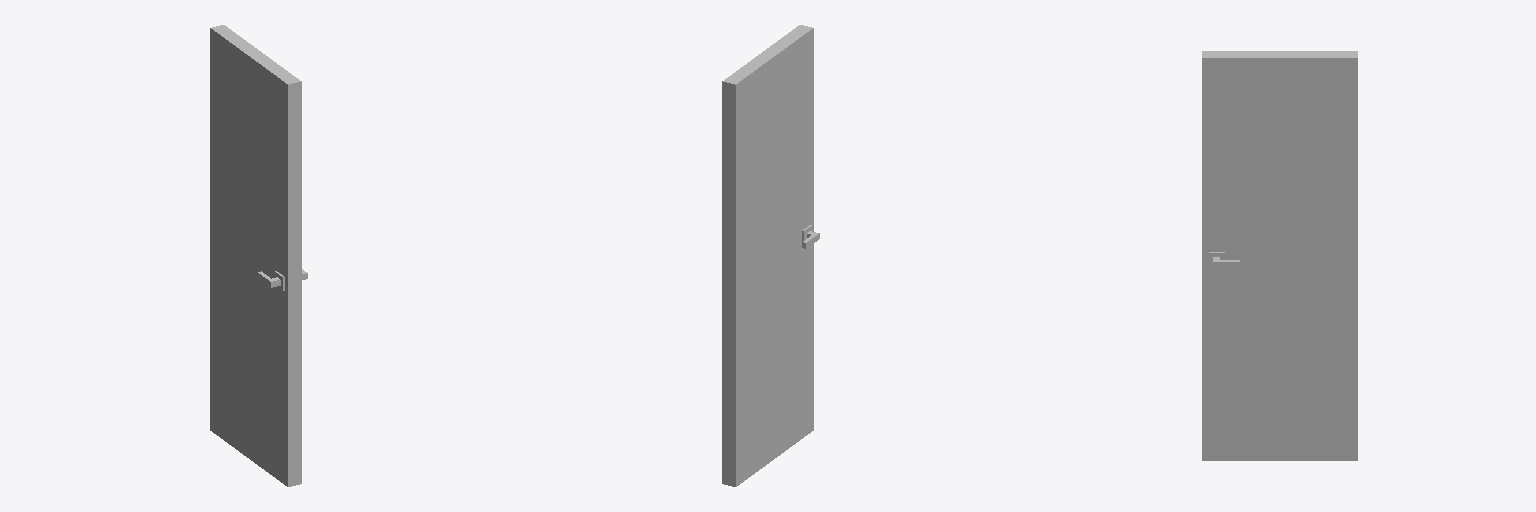
File: door701_beige.obj
The picture shows the model from 3 angles: view 1: azimuth 30°, elevation 25°; view 2: azimuth 150°, elevation 25°; view 3: azimuth 270°, elevation 25°; orthographic projection.
Visible parts, largest first — view 1: Cube; view 2: Cube; view 3: Cube.
Boxes of the visible parts, x1,y1,x2,y2 form: Cube: [210, 25, 307, 486]; Cube: [722, 25, 819, 486]; Cube: [1202, 51, 1357, 460].
Bounding box in the file's own units: 0.1899 × 2 × 0.6997.